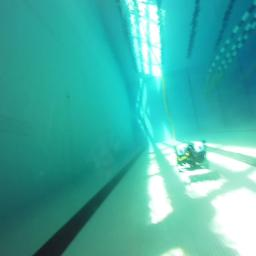back: (176, 140, 210, 172)
